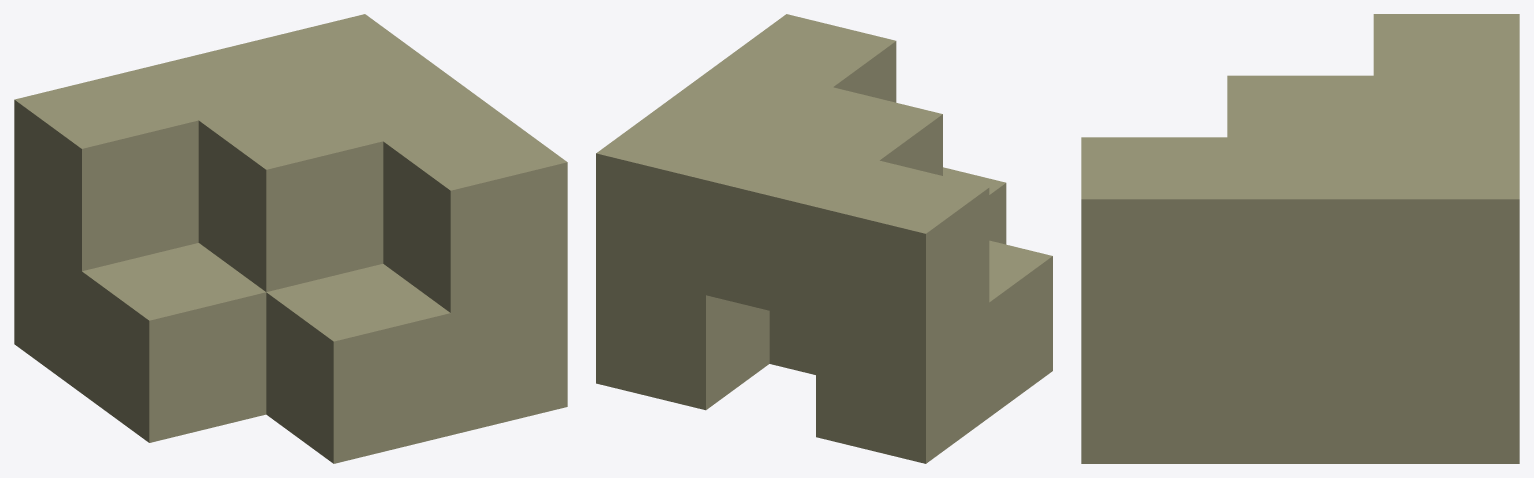
The model's file is NB_TR_F_toes1_r.fbx.
3 views of the same model, side by side, from view 1: azimuth 30°, elevation 25°; view 2: azimuth 150°, elevation 25°; view 3: azimuth 270°, elevation 25° (orthographic). The views are drawn at different scales.
Visible parts, largest first — view 1: toes1_r; view 2: toes1_r; view 3: toes1_r.
Part boxes in pixels (box(x1,y1,x2,y2)): toes1_r: box(14, 14, 567, 463); toes1_r: box(596, 14, 1052, 463); toes1_r: box(1081, 14, 1519, 463).
Bounding box in the file's own units: 3 × 2 × 3.
Materials: 1 (1 with a texture image).
